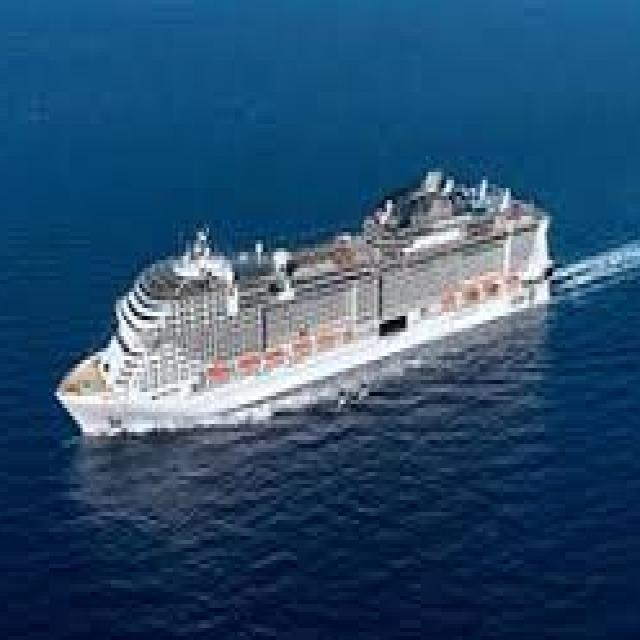passenger ship: (53, 165, 559, 452)
